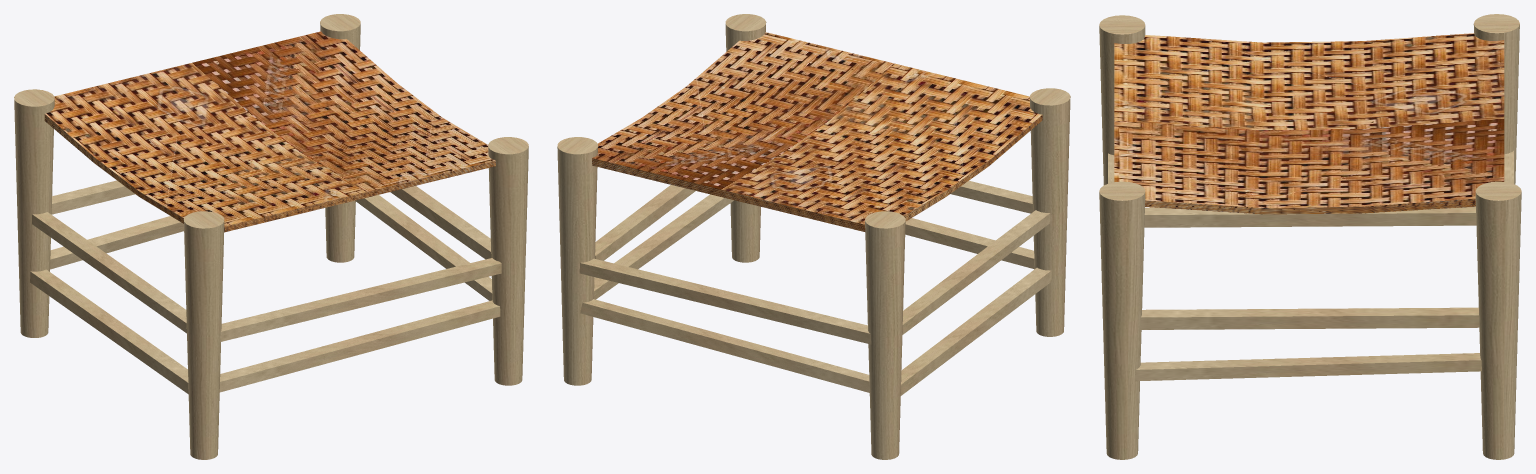
The model's file is Chair_1.fbx.
3 views of the same model, side by side, from view 1: azimuth 30°, elevation 25°; view 2: azimuth 150°, elevation 25°; view 3: azimuth 270°, elevation 25° (orthographic). The views are drawn at different scales.
Visible parts, largest first — view 1: polySurface7; view 2: polySurface7; view 3: polySurface7.
Boxes of the visible parts, x1,y1,x2,y2 form: polySurface7: [14, 14, 528, 459]; polySurface7: [557, 14, 1070, 459]; polySurface7: [1099, 14, 1521, 459].
Size of the model in its own units: 5.17 by 3.38 by 4.94.
2 materials, 2 textured.
